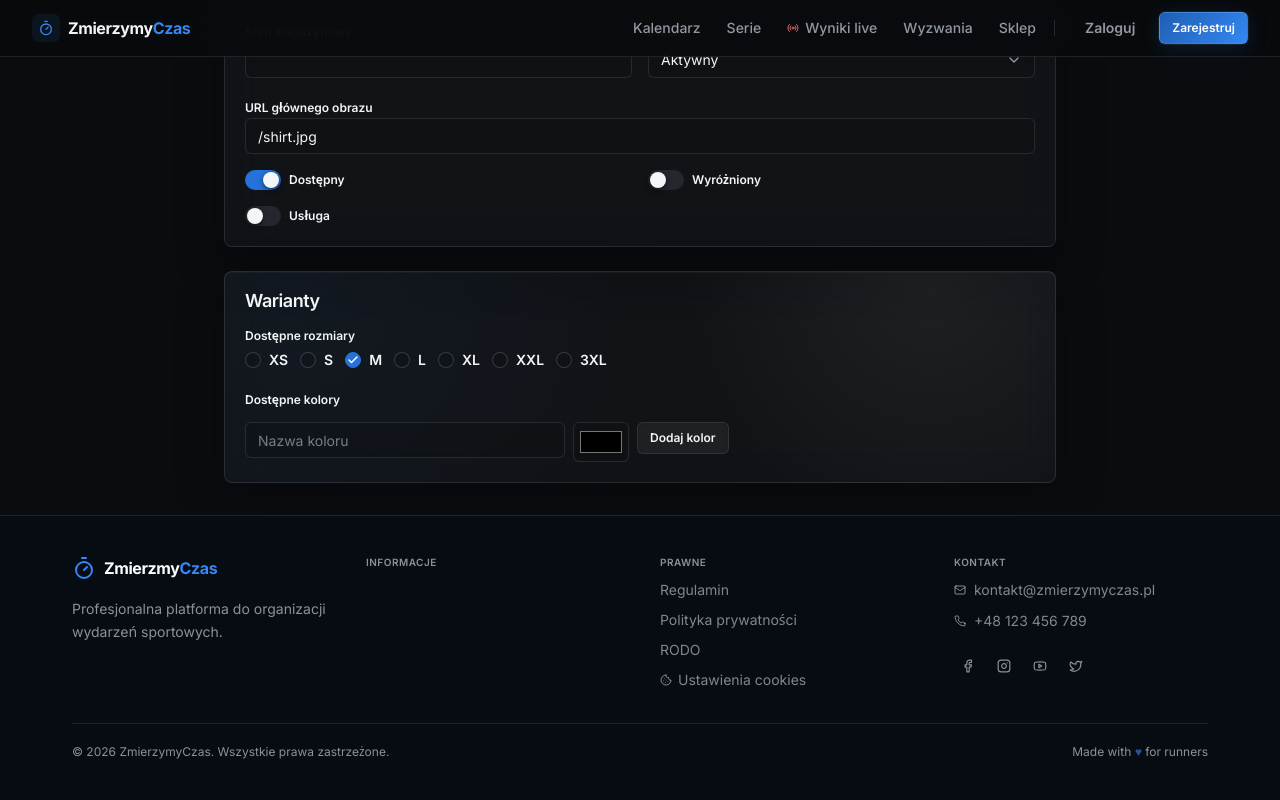
Test: AdminProductEditPage variant editing › removes a color when its remove button is clicked
The image size is (1280, 800).
(page scrolled)
Step 1. Type "Zielony" into the field with placeholder "Nazwa koloru" → point(405, 440), box [245,422,565,458]
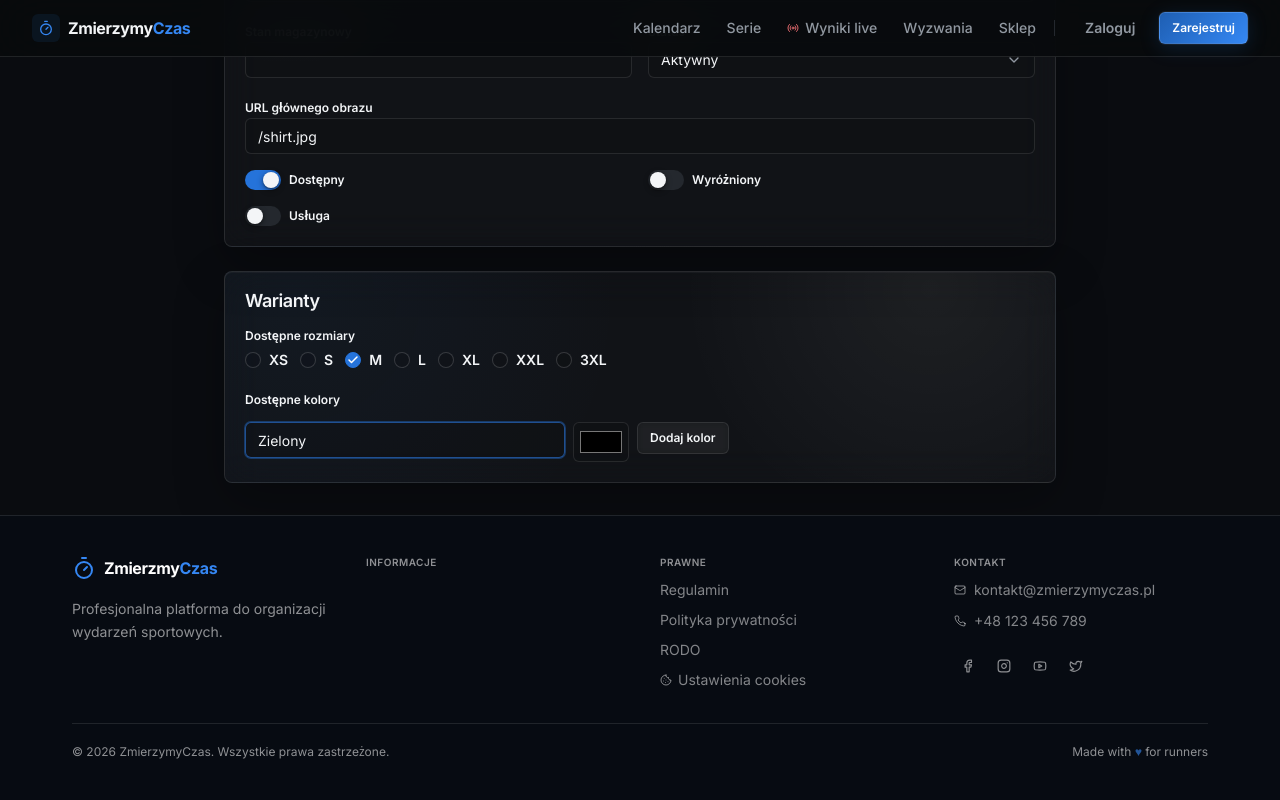
Step 2. Click the button "Dodaj kolor" → point(683, 438), box [637,422,729,454]
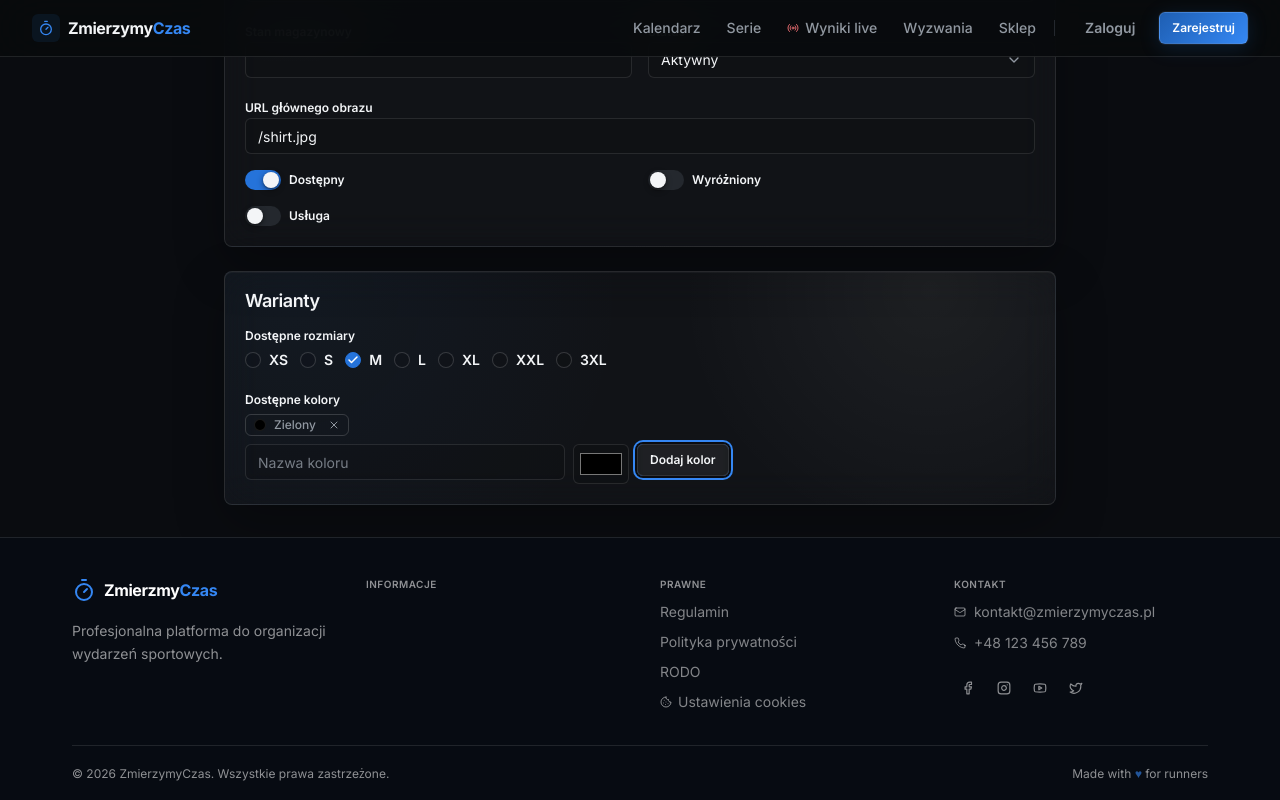
Now the text "Zielony" is shown, box [245,414,349,436]
Step 3. Click the button named "Usuń kolor Zielony" → point(334, 425), box [328,419,340,431]
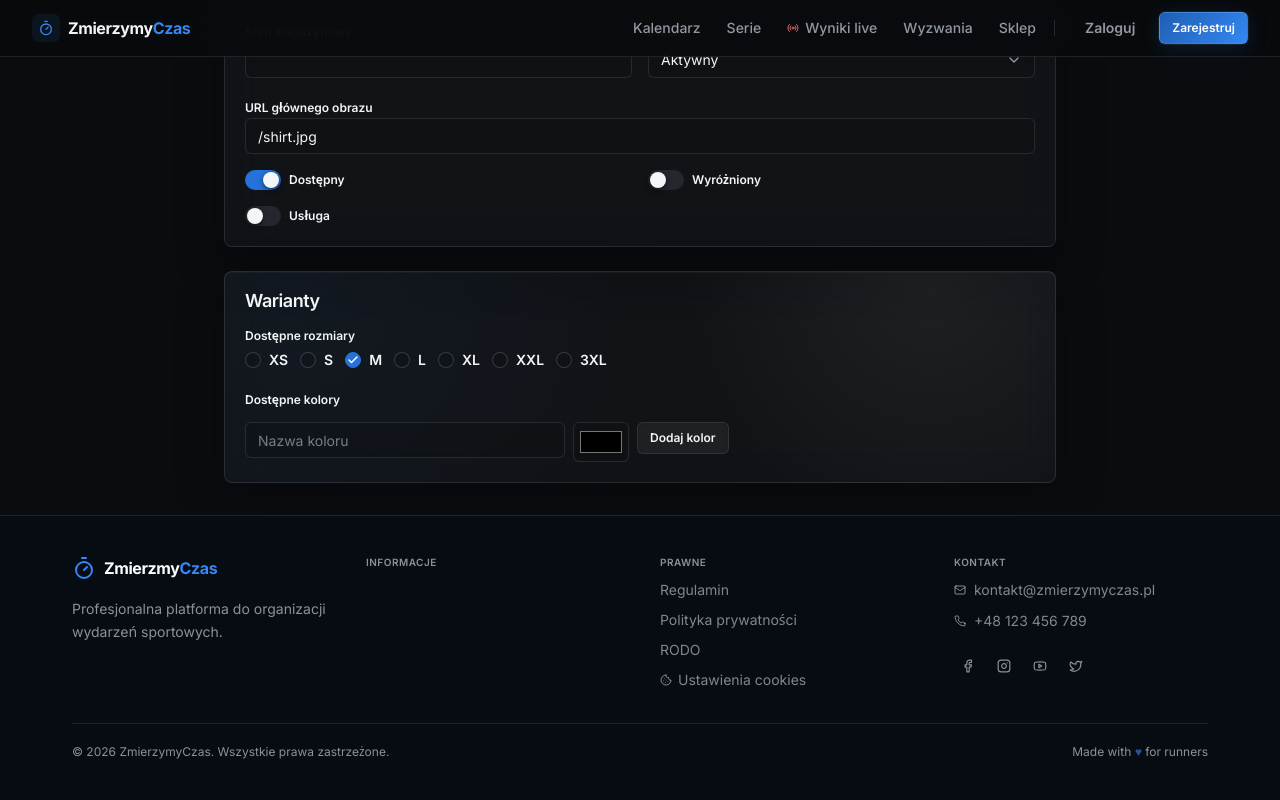
Now the text "Zielony" is gone
